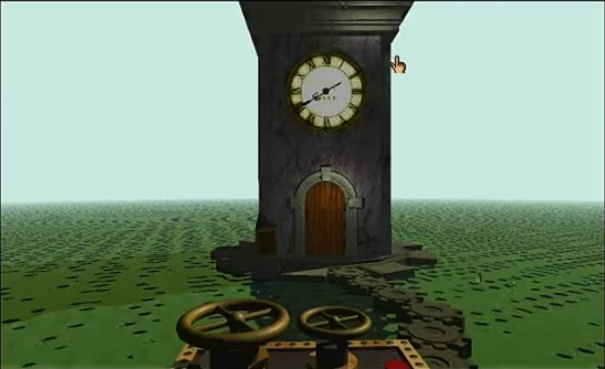Pointer: (388, 51, 411, 77)
